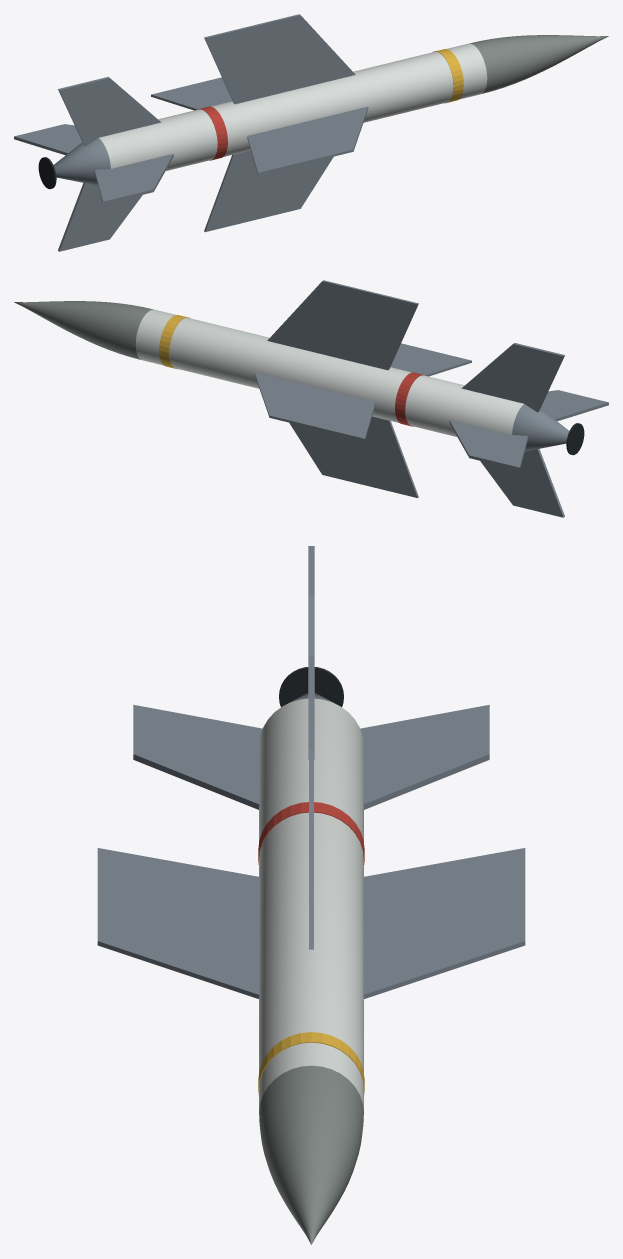
File: cw90_moskit.glb
3 renders of one model, top to bottom at view 1: azimuth 30°, elevation 25°; view 2: azimuth 150°, elevation 25°; view 3: azimuth 270°, elevation 25°, orthographic. The views are drawn at different scales.
Visible parts, largest first — view 1: cw90_moskit; view 2: cw90_moskit; view 3: cw90_moskit.
Boxes of the visible parts, <box> form: cw90_moskit: <box>14,14,608,251</box>; cw90_moskit: <box>14,280,608,517</box>; cw90_moskit: <box>97,546,525,1244</box>.
Bounding box in the file's own units: 10 × 3.3 × 3.3.
